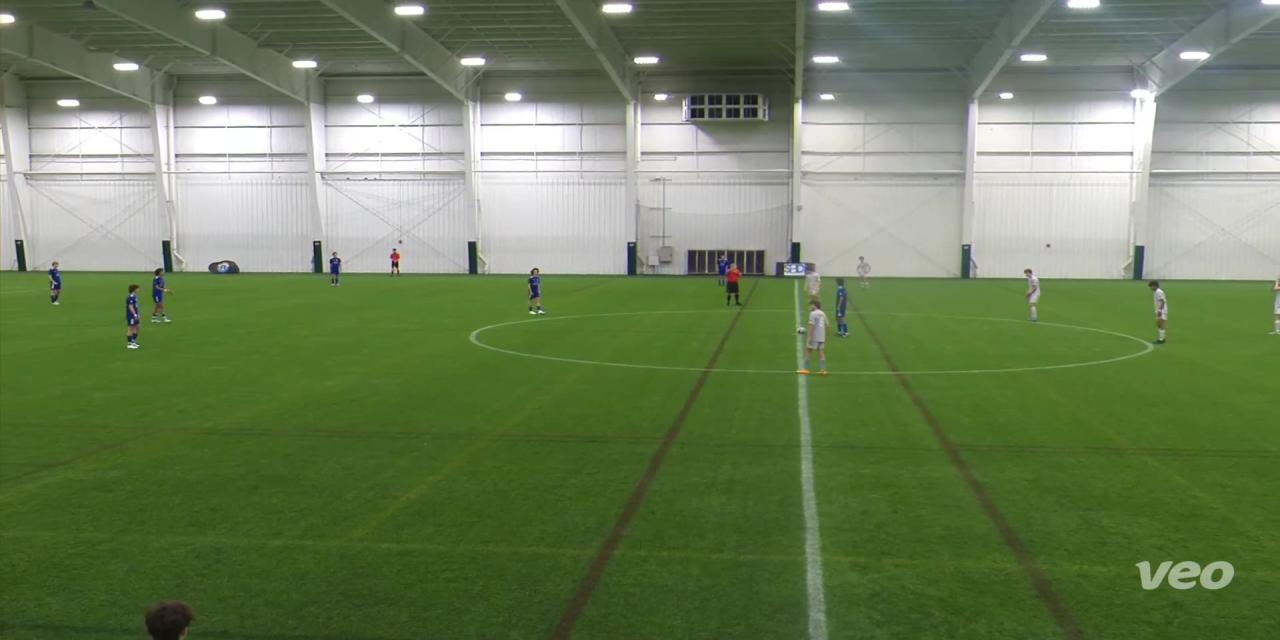sports ball: (792, 316, 811, 341)
